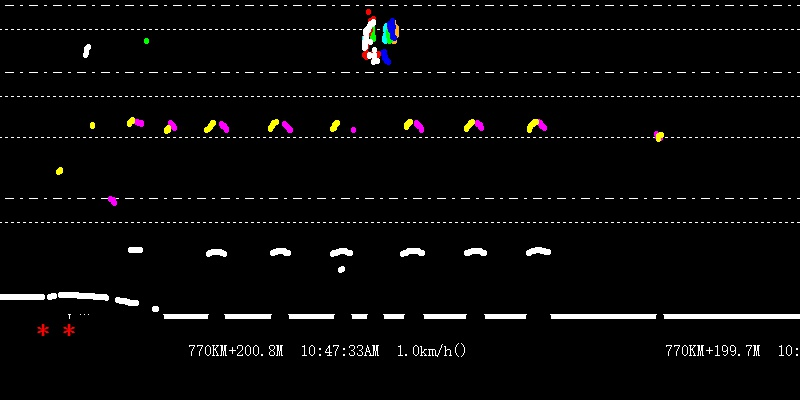J: (358, 4, 400, 65)
star: (60, 322, 78, 340), (36, 320, 52, 340)
y_p: (195, 112, 559, 260)
